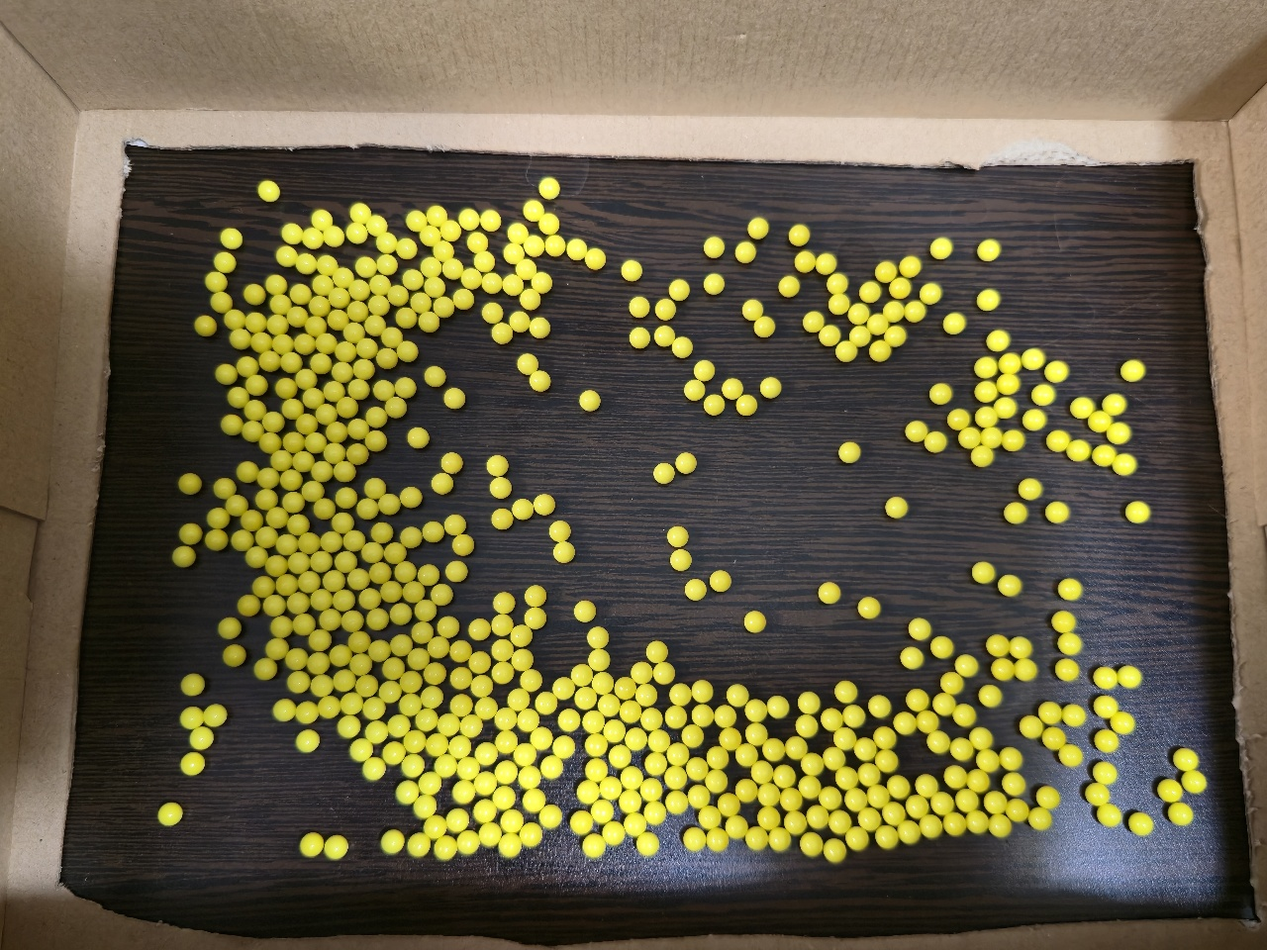yellow_bead: (608, 826, 621, 841), (575, 815, 588, 830), (588, 839, 601, 853), (504, 839, 517, 853), (305, 838, 318, 852), (805, 837, 818, 851), (641, 837, 654, 851), (386, 835, 399, 849), (484, 828, 497, 842), (544, 809, 557, 823), (596, 805, 609, 819), (1091, 788, 1105, 801), (582, 786, 595, 800), (479, 777, 492, 791), (1098, 767, 1112, 780), (500, 766, 513, 780), (1063, 637, 1077, 650), (498, 791, 510, 806), (1130, 507, 1145, 519), (1075, 402, 1090, 414), (1125, 365, 1140, 377), (457, 786, 470, 799), (1008, 778, 1021, 791), (424, 777, 437, 790), (523, 771, 536, 784), (462, 762, 475, 775), (545, 761, 558, 774), (519, 748, 532, 761), (453, 740, 466, 753), (370, 725, 383, 738), (342, 720, 355, 733), (587, 715, 600, 728), (1099, 672, 1112, 685), (413, 838, 425, 852), (462, 835, 474, 849), (1134, 818, 1148, 830), (528, 794, 540, 808), (626, 771, 638, 785), (407, 759, 419, 773), (1179, 754, 1193, 766), (614, 750, 626, 764), (480, 747, 492, 761), (557, 740, 569, 754), (501, 735, 513, 749), (1099, 701, 1113, 713), (1063, 584, 1077, 596), (1003, 580, 1017, 592), (1050, 507, 1064, 519), (1027, 414, 1041, 426), (1036, 389, 1050, 401), (1026, 353, 1040, 365), (451, 813, 462, 828), (689, 833, 701, 846), (429, 820, 441, 833), (506, 814, 518, 827), (478, 805, 491, 817), (419, 800, 431, 813), (624, 795, 636, 808), (402, 786, 414, 799), (645, 783, 657, 796), (590, 764, 603, 776), (368, 762, 380, 775), (439, 760, 451, 773), (650, 758, 662, 771), (828, 752, 840, 765), (1064, 749, 1076, 762), (672, 748, 684, 761), (388, 747, 400, 760), (767, 743, 779, 756), (355, 743, 367, 756), (609, 724, 621, 737), (801, 719, 813, 732), (393, 719, 405, 732), (442, 718, 454, 731), (563, 713, 575, 726), (1043, 707, 1056, 719), (580, 692, 592, 705), (984, 690, 997, 702), (839, 686, 852, 698), (597, 677, 609, 690), (1124, 671, 1136, 684), (960, 660, 973, 672), (906, 652, 919, 664), (935, 641, 948, 653), (1118, 458, 1131, 470), (1108, 399, 1121, 411), (1050, 366, 1063, 378), (992, 334, 1005, 346), (948, 318, 961, 330), (982, 294, 995, 306), (983, 244, 996, 256), (370, 220, 382, 233), (523, 713, 534, 727), (1009, 508, 1023, 519), (1023, 484, 1037, 495), (439, 843, 451, 855), (629, 819, 641, 831), (1034, 813, 1046, 825), (649, 808, 661, 820), (849, 795, 861, 807), (863, 769, 875, 781), (590, 740, 602, 752), (932, 736, 944, 748), (653, 735, 665, 747), (465, 720, 477, 732), (1069, 710, 1081, 722), (772, 701, 784, 713), (937, 699, 949, 711), (405, 699, 417, 711), (803, 697, 815, 709), (731, 690, 743, 702), (316, 680, 328, 692), (593, 654, 605, 666), (914, 623, 926, 635), (1072, 444, 1084, 456), (980, 386, 992, 398), (980, 361, 992, 373), (935, 242, 947, 254), (355, 208, 367, 220), (525, 829, 536, 842), (670, 798, 683, 809), (756, 766, 767, 779), (740, 749, 751, 762), (859, 743, 870, 756), (791, 741, 802, 754), (409, 735, 420, 748), (631, 733, 642, 746), (536, 732, 547, 745), (421, 713, 432, 726), (500, 712, 511, 725), (209, 710, 222, 721), (873, 701, 886, 712), (540, 697, 551, 710), (977, 567, 990, 578), (976, 451, 989, 462), (1112, 428, 1125, 439), (934, 388, 947, 399), (1103, 811, 1117, 821), (880, 832, 892, 843), (960, 795, 971, 807), (605, 782, 616, 794), (921, 780, 932, 792), (669, 773, 680, 785), (949, 771, 960, 783), (981, 755, 992, 767), (838, 733, 849, 745), (750, 728, 761, 740), (185, 712, 196, 724), (848, 711, 860, 722), (670, 711, 681, 723), (697, 710, 709, 721), (750, 705, 762, 716), (480, 703, 492, 714), (368, 703, 380, 714), (603, 700, 614, 712), (345, 698, 356, 710), (513, 694, 524, 706), (426, 692, 438, 703), (697, 686, 708, 698), (384, 686, 395, 698), (558, 683, 569, 695), (476, 680, 487, 692), (405, 676, 416, 688), (293, 676, 304, 688), (636, 667, 647, 679), (497, 667, 508, 679), (517, 654, 528, 666), (651, 646, 662, 658), (497, 644, 508, 656), (314, 634, 325, 646), (592, 631, 603, 643), (420, 605, 432, 616), (675, 554, 686, 566), (891, 502, 903, 513), (843, 447, 855, 458), (929, 436, 941, 447), (963, 432, 975, 443), (980, 412, 992, 423), (317, 215, 328, 227), (463, 214, 474, 226), (263, 186, 275, 197), (543, 182, 554, 194), (828, 844, 838, 857), (850, 832, 860, 845), (812, 810, 822, 823), (806, 760, 819, 770), (526, 674, 536, 687), (693, 790, 702, 804), (1006, 752, 1015, 766), (899, 718, 910, 729), (301, 707, 312, 718), (278, 705, 289, 716), (360, 681, 371, 692), (187, 680, 198, 691), (474, 657, 485, 668), (413, 653, 424, 664), (442, 621, 453, 632), (579, 606, 590, 617), (498, 598, 509, 609), (338, 595, 349, 606), (436, 589, 447, 600), (690, 585, 701, 596), (715, 576, 726, 587), (423, 570, 434, 581), (558, 546, 569, 557), (348, 535, 359, 546), (672, 531, 683, 542), (554, 525, 565, 536), (518, 504, 529, 515), (495, 482, 506, 493), (492, 460, 503, 471), (1051, 435, 1062, 446), (765, 382, 776, 393), (699, 365, 710, 376), (677, 341, 688, 352), (872, 319, 883, 330), (808, 317, 819, 328), (853, 309, 864, 320), (888, 306, 899, 317), (747, 305, 758, 316), (660, 304, 671, 315), (833, 299, 844, 310), (925, 288, 936, 299), (865, 286, 876, 297), (508, 279, 519, 290), (831, 278, 842, 289), (408, 274, 419, 285), (466, 273, 477, 284), (426, 262, 437, 273), (301, 258, 312, 269), (709, 241, 720, 252), (381, 237, 392, 248), (329, 230, 340, 241), (351, 227, 362, 238), (411, 216, 422, 227), (485, 215, 496, 226), (330, 841, 342, 851), (789, 817, 799, 829), (863, 814, 873, 826), (431, 739, 441, 751), (1025, 721, 1035, 733), (497, 619, 507, 631), (450, 566, 462, 576), (911, 426, 923, 436), (840, 346, 852, 356), (674, 284, 684, 296), (479, 255, 489, 267), (281, 251, 293, 261), (529, 239, 539, 251), (472, 237, 482, 249), (544, 218, 554, 230), (529, 205, 539, 217), (195, 732, 208, 741), (834, 815, 842, 829), (1187, 777, 1201, 785), (904, 827, 914, 838), (973, 817, 983, 828), (704, 813, 715, 823), (935, 798, 945, 809), (989, 797, 999, 808), (825, 793, 835, 804), (840, 774, 850, 785), (324, 702, 335, 712), (455, 673, 465, 684), (388, 663, 398, 674), (355, 659, 366, 669), (271, 643, 281, 654), (433, 642, 443, 653), (474, 624, 484, 635), (1057, 617, 1068, 627), (530, 613, 540, 624), (863, 603, 873, 614), (292, 598, 302, 609), (824, 588, 834, 599), (408, 587, 419, 597), (352, 574, 363, 584), (316, 556, 326, 567), (457, 539, 468, 549), (406, 532, 417, 542), (428, 526, 439, 536), (538, 500, 549, 510), (405, 492, 416, 502), (658, 468, 669, 478), (413, 432, 424, 442), (390, 402, 401, 412), (709, 400, 720, 410), (449, 393, 459, 404), (689, 385, 700, 395), (874, 345, 884, 356), (890, 331, 901, 341), (659, 331, 670, 341), (759, 322, 770, 332), (487, 308, 497, 319), (911, 306, 921, 317), (458, 294, 469, 304), (784, 281, 795, 291), (536, 277, 546, 288), (521, 264, 532, 274), (447, 262, 457, 273), (360, 262, 371, 272), (382, 259, 392, 270), (220, 257, 231, 267), (740, 246, 750, 257), (572, 243, 582, 254), (402, 243, 412, 254), (307, 233, 318, 243), (794, 230, 805, 240), (287, 229, 298, 239), (445, 225, 455, 236), (753, 223, 763, 234), (750, 833, 759, 845), (804, 782, 813, 794), (711, 776, 720, 788), (691, 764, 700, 776), (955, 743, 964, 755), (975, 732, 984, 744), (958, 709, 967, 721), (455, 700, 464, 712), (339, 675, 348, 687), (1000, 402, 1012, 411), (880, 266, 892, 275), (905, 261, 917, 270), (226, 234, 238, 243), (893, 781, 901, 794), (779, 770, 787, 783), (649, 712, 657, 725), (580, 669, 588, 682), (1041, 793, 1051, 803), (291, 654, 301, 664), (749, 617, 759, 627), (329, 575, 339, 585), (367, 547, 377, 557), (281, 539, 291, 549), (326, 536, 336, 546), (437, 478, 447, 488), (681, 458, 691, 468), (371, 412, 381, 422), (585, 396, 595, 406), (329, 386, 339, 396), (379, 385, 389, 395), (353, 384, 363, 394), (400, 383, 410, 393), (430, 371, 440, 381), (523, 359, 533, 369), (825, 330, 835, 340), (497, 328, 507, 338), (515, 317, 525, 327), (424, 317, 434, 327), (634, 302, 644, 312), (416, 298, 426, 308), (525, 294, 535, 304), (393, 290, 403, 300), (709, 279, 719, 289), (487, 278, 497, 288), (800, 256, 810, 266), (590, 253, 600, 263), (509, 248, 519, 258), (550, 240, 560, 250), (513, 228, 523, 238), (432, 211, 442, 221), (720, 711, 729, 722), (625, 707, 634, 718), (911, 695, 920, 706), (429, 668, 438, 679), (313, 658, 322, 669), (373, 645, 382, 656), (396, 640, 407, 649), (417, 627, 428, 636), (276, 621, 285, 632), (269, 600, 278, 611), (304, 576, 313, 587), (341, 556, 350, 567), (449, 520, 460, 529), (369, 483, 380, 492), (386, 333, 397, 342), (854, 332, 865, 341), (375, 280, 386, 289), (627, 265, 636, 276), (822, 258, 831, 269), (439, 246, 448, 257), (731, 822, 739, 834), (712, 752, 720, 764), (826, 713, 834, 725), (678, 689, 686, 701), (1022, 664, 1030, 676), (887, 809, 896, 819), (879, 733, 888, 743), (620, 683, 629, 693), (325, 615, 335, 624), (316, 595, 325, 605), (364, 594, 373, 604), (400, 567, 410, 576), (294, 557, 303, 567), (376, 527, 386, 536), (497, 514, 506, 524), (362, 504, 372, 513), (307, 486, 317, 495), (329, 448, 339, 457), (988, 432, 997, 442), (267, 417, 277, 426), (358, 364, 368, 373), (402, 346, 412, 355), (634, 333, 644, 342), (370, 321, 380, 330), (439, 302, 448, 312), (295, 289, 305, 298), (354, 285, 364, 294), (430, 282, 439, 292), (318, 280, 328, 289), (211, 277, 221, 286), (338, 273, 348, 282), (712, 836, 720, 847), (911, 802, 919, 813), (763, 790, 771, 801), (303, 735, 314, 743), (1016, 642, 1024, 653), (298, 619, 309, 627), (1004, 358, 1015, 366), (373, 301, 384, 309), (322, 260, 333, 268), (520, 630, 527, 642), (945, 677, 954, 686), (260, 664, 269, 673), (225, 623, 234, 632), (384, 499, 393, 508), (317, 466, 326, 475), (446, 458, 455, 467), (308, 393, 317, 402), (535, 323, 544, 332), (271, 280, 280, 289), (995, 822, 1003, 832), (1104, 740, 1114, 748), (1061, 664, 1069, 674), (346, 616, 356, 624), (389, 547, 399, 555), (288, 497, 298, 505), (272, 320, 282, 328), (401, 313, 411, 321), (275, 300, 285, 308), (216, 297, 226, 305), (774, 835, 781, 846), (926, 821, 933, 832), (873, 792, 880, 803), (662, 668, 669, 679), (395, 609, 406, 616), (530, 591, 537, 602), (952, 414, 963, 421), (348, 328, 359, 335), (895, 283, 906, 290), (644, 690, 650, 702), (263, 473, 272, 481), (339, 466, 348, 474), (370, 435, 379, 443), (1010, 434, 1019, 442), (321, 410, 330, 418), (251, 380, 259, 389), (301, 374, 310, 382), (222, 369, 230, 378), (338, 367, 346, 376), (362, 343, 371, 351), (352, 306, 361, 314), (334, 293, 342, 302), (740, 785, 747, 795), (745, 400, 752, 410), (538, 376, 545, 386), (881, 757, 889, 765), (375, 567, 383, 575), (179, 551, 187, 559), (338, 518, 346, 526), (220, 484, 228, 492), (227, 420, 235, 428), (287, 404, 295, 412), (234, 392, 242, 400), (242, 362, 250, 370), (236, 333, 244, 341), (230, 315, 238, 323), (314, 301, 322, 309), (992, 640, 1001, 647), (372, 614, 381, 621), (251, 552, 260, 559), (271, 514, 280, 521), (298, 456, 307, 463), (276, 455, 285, 462), (311, 437, 320, 444), (316, 358, 325, 365), (286, 357, 295, 364), (382, 353, 391, 360), (341, 346, 348, 355), (321, 338, 330, 345), (319, 504, 329, 510), (731, 384, 737, 394), (723, 802, 730, 810), (997, 664, 1005, 671), (455, 645, 462, 653), (237, 535, 244, 543), (261, 531, 269, 538), (213, 514, 221, 521), (341, 493, 349, 500), (1103, 449, 1110, 457), (250, 405, 257, 413), (292, 312, 300, 319), (763, 814, 769, 823), (725, 734, 731, 743), (247, 427, 256, 433), (353, 424, 362, 430), (341, 402, 350, 408), (787, 796, 792, 806), (337, 650, 342, 660), (386, 587, 394, 593), (232, 501, 240, 507), (299, 339, 307, 345), (278, 339, 286, 345), (250, 318, 258, 324), (333, 315, 341, 321), (974, 776, 979, 785), (260, 495, 269, 500), (1004, 379, 1013, 384), (264, 356, 273, 361), (949, 821, 956, 827), (1048, 736, 1054, 743), (185, 529, 192, 535), (250, 289, 257, 295), (293, 520, 301, 525), (351, 449, 359, 454), (332, 427, 340, 432), (924, 718, 928, 727), (1099, 416, 1105, 422), (286, 475, 293, 480), (281, 383, 288, 388), (312, 322, 320, 326), (1168, 790, 1174, 795), (691, 736, 696, 742), (259, 582, 265, 587), (212, 535, 217, 541), (257, 337, 263, 342), (354, 638, 361, 642), (304, 539, 311, 543), (302, 419, 309, 423), (285, 581, 290, 586), (273, 560, 278, 565), (244, 467, 249, 472), (267, 437, 272, 442), (290, 437, 296, 441), (1014, 808, 1019, 812), (247, 516, 252, 520), (165, 808, 171, 811), (690, 730, 694, 734), (246, 601, 250, 605), (187, 479, 191, 483), (202, 322, 206, 326), (188, 758, 193, 761), (163, 812, 165, 817), (233, 652, 236, 655), (175, 814, 177, 816), (1177, 813, 1179, 814), (301, 741, 302, 743), (425, 235, 426, 237), (427, 231, 429, 232), (186, 762, 187, 763), (302, 739, 303, 740), (1122, 728, 1123, 729), (434, 240, 435, 241), (426, 233, 427, 234)
